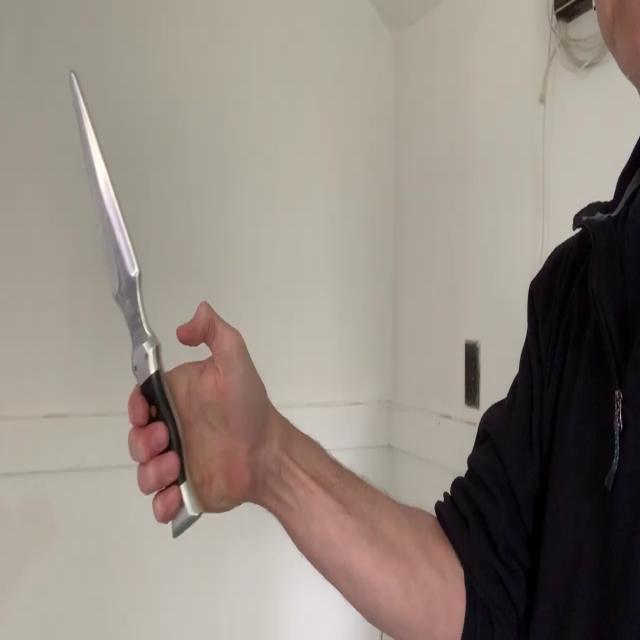Knife_Handle: (69, 69, 268, 537)
